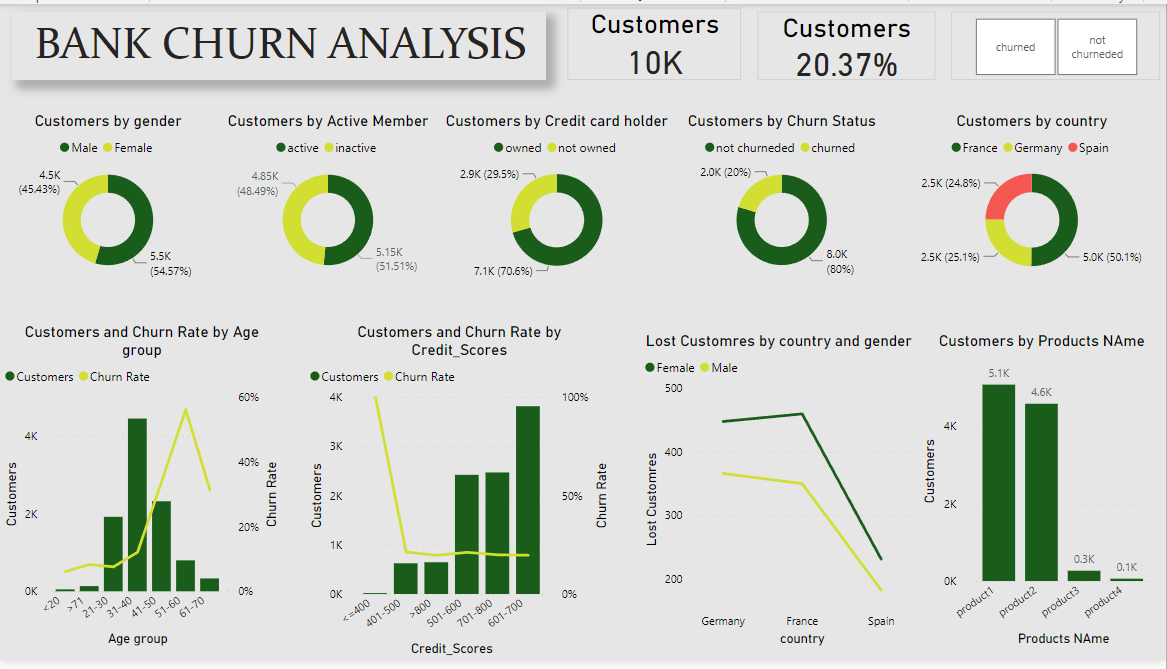

The page's visual inventory and layout, read from the dashboard file:
{"tool":"powerbi","page":{"name":"Page 1","canvas":[1280,720],"ordinal":0},"visuals":[{"type":"card","title":"Customers","fields":{"Values":["Measures (2).Customers"]},"box":[623,4.1,190.7,79.6],"z":0},{"type":"card","title":"Customers","fields":{"Values":["Measures (2).Churn Rate"]},"box":[831.6,8.2,194.9,75.5],"z":1000},{"type":"donutChart","fields":{"Y":["Measures (2).Customers"],"Category":["Bank Customer Churn.gender"]},"box":[0,118,237.4,189.4],"z":2000},{"type":"donutChart","title":"Customers by Credit card holder","fields":{"Y":["Measures (2).Customers"],"Category":["Bank Customer Churn.credit_card_holder"]},"box":[478.9,118,264.8,189.4],"z":3000},{"type":"donutChart","title":"Customers by Active Member","fields":{"Category":["Bank Customer Churn.active_member"],"Y":["Measures (2).Customers"]},"box":[241.5,118,237.4,189.4],"z":4000},{"type":"donutChart","title":"Customers by Churn Status","fields":{"Y":["Measures (2).Customers"],"Category":["Bank Customer Churn.chur_Status"]},"box":[741,118,234.6,189.4],"z":5000},{"type":"donutChart","fields":{"Y":["Measures (2).Customers"],"Category":["Bank Customer Churn.country"]},"box":[985.3,118,295,189.4],"z":6000},{"type":"lineClusteredColumnComboChart","fields":{"Y":["Measures (2).Customers"],"Category":["Bank Customer Churn.Age group"],"Y2":["Measures (2).Churn Rate"]},"box":[0,349.9,311.5,359.5],"z":7000},{"type":"lineClusteredColumnComboChart","fields":{"Y":["Measures (2).Customers"],"Category":["Bank Customer Churn.Credit_Scores"],"Y2":["Measures (2).Churn Rate"]},"box":[334.8,349.9,338.9,370.5],"z":8000},{"type":"lineChart","fields":{"Y":["Measures (2).Lost Customres"],"Category":["Bank Customer Churn.country"],"Series":["Bank Customer Churn.gender"]},"box":[702.6,359.5,304.6,349.9],"z":9000},{"type":"clusteredColumnChart","fields":{"Y":["Measures (2).Customers"],"Category":["Bank Customer Churn.Products NAme"]},"box":[1007.2,359.5,273.1,349.9],"z":10000},{"type":"slicer","fields":{"Values":["Bank Customer Churn.chur_Status"]},"box":[1044.3,8.2,229.2,75.5],"z":11000},{"type":"textbox","box":[13.7,8.2,585.9,75.5],"z":12000}]}

Visuals, with their boxes in screenshot pixels (x1, y1, x2, y2), scaled from the page's 1280x720 canvas onto the 1167x669 screenshot:
"Customers" card: (568,4,742,78)
"Customers" card: (758,8,936,78)
donutChart - Measures (2).Customers x Bank Customer Churn.gender: (0,110,216,286)
"Customers by Credit card holder" donutChart: (437,110,678,286)
"Customers by Active Member" donutChart: (220,110,437,286)
"Customers by Churn Status" donutChart: (676,110,889,286)
donutChart - Measures (2).Customers x Bank Customer Churn.country: (898,110,1166,286)
lineClusteredColumnComboChart - Measures (2).Customers x Bank Customer Churn.Age group: (0,325,284,659)
lineClusteredColumnComboChart - Measures (2).Customers x Bank Customer Churn.Credit_Scores: (305,325,614,668)
lineChart - Measures (2).Lost Customres x Bank Customer Churn.country: (641,334,918,659)
clusteredColumnChart - Measures (2).Customers x Bank Customer Churn.Products NAme: (918,334,1166,659)
slicer - Bank Customer Churn.chur_Status: (952,8,1161,78)
textbox: (12,8,547,78)
